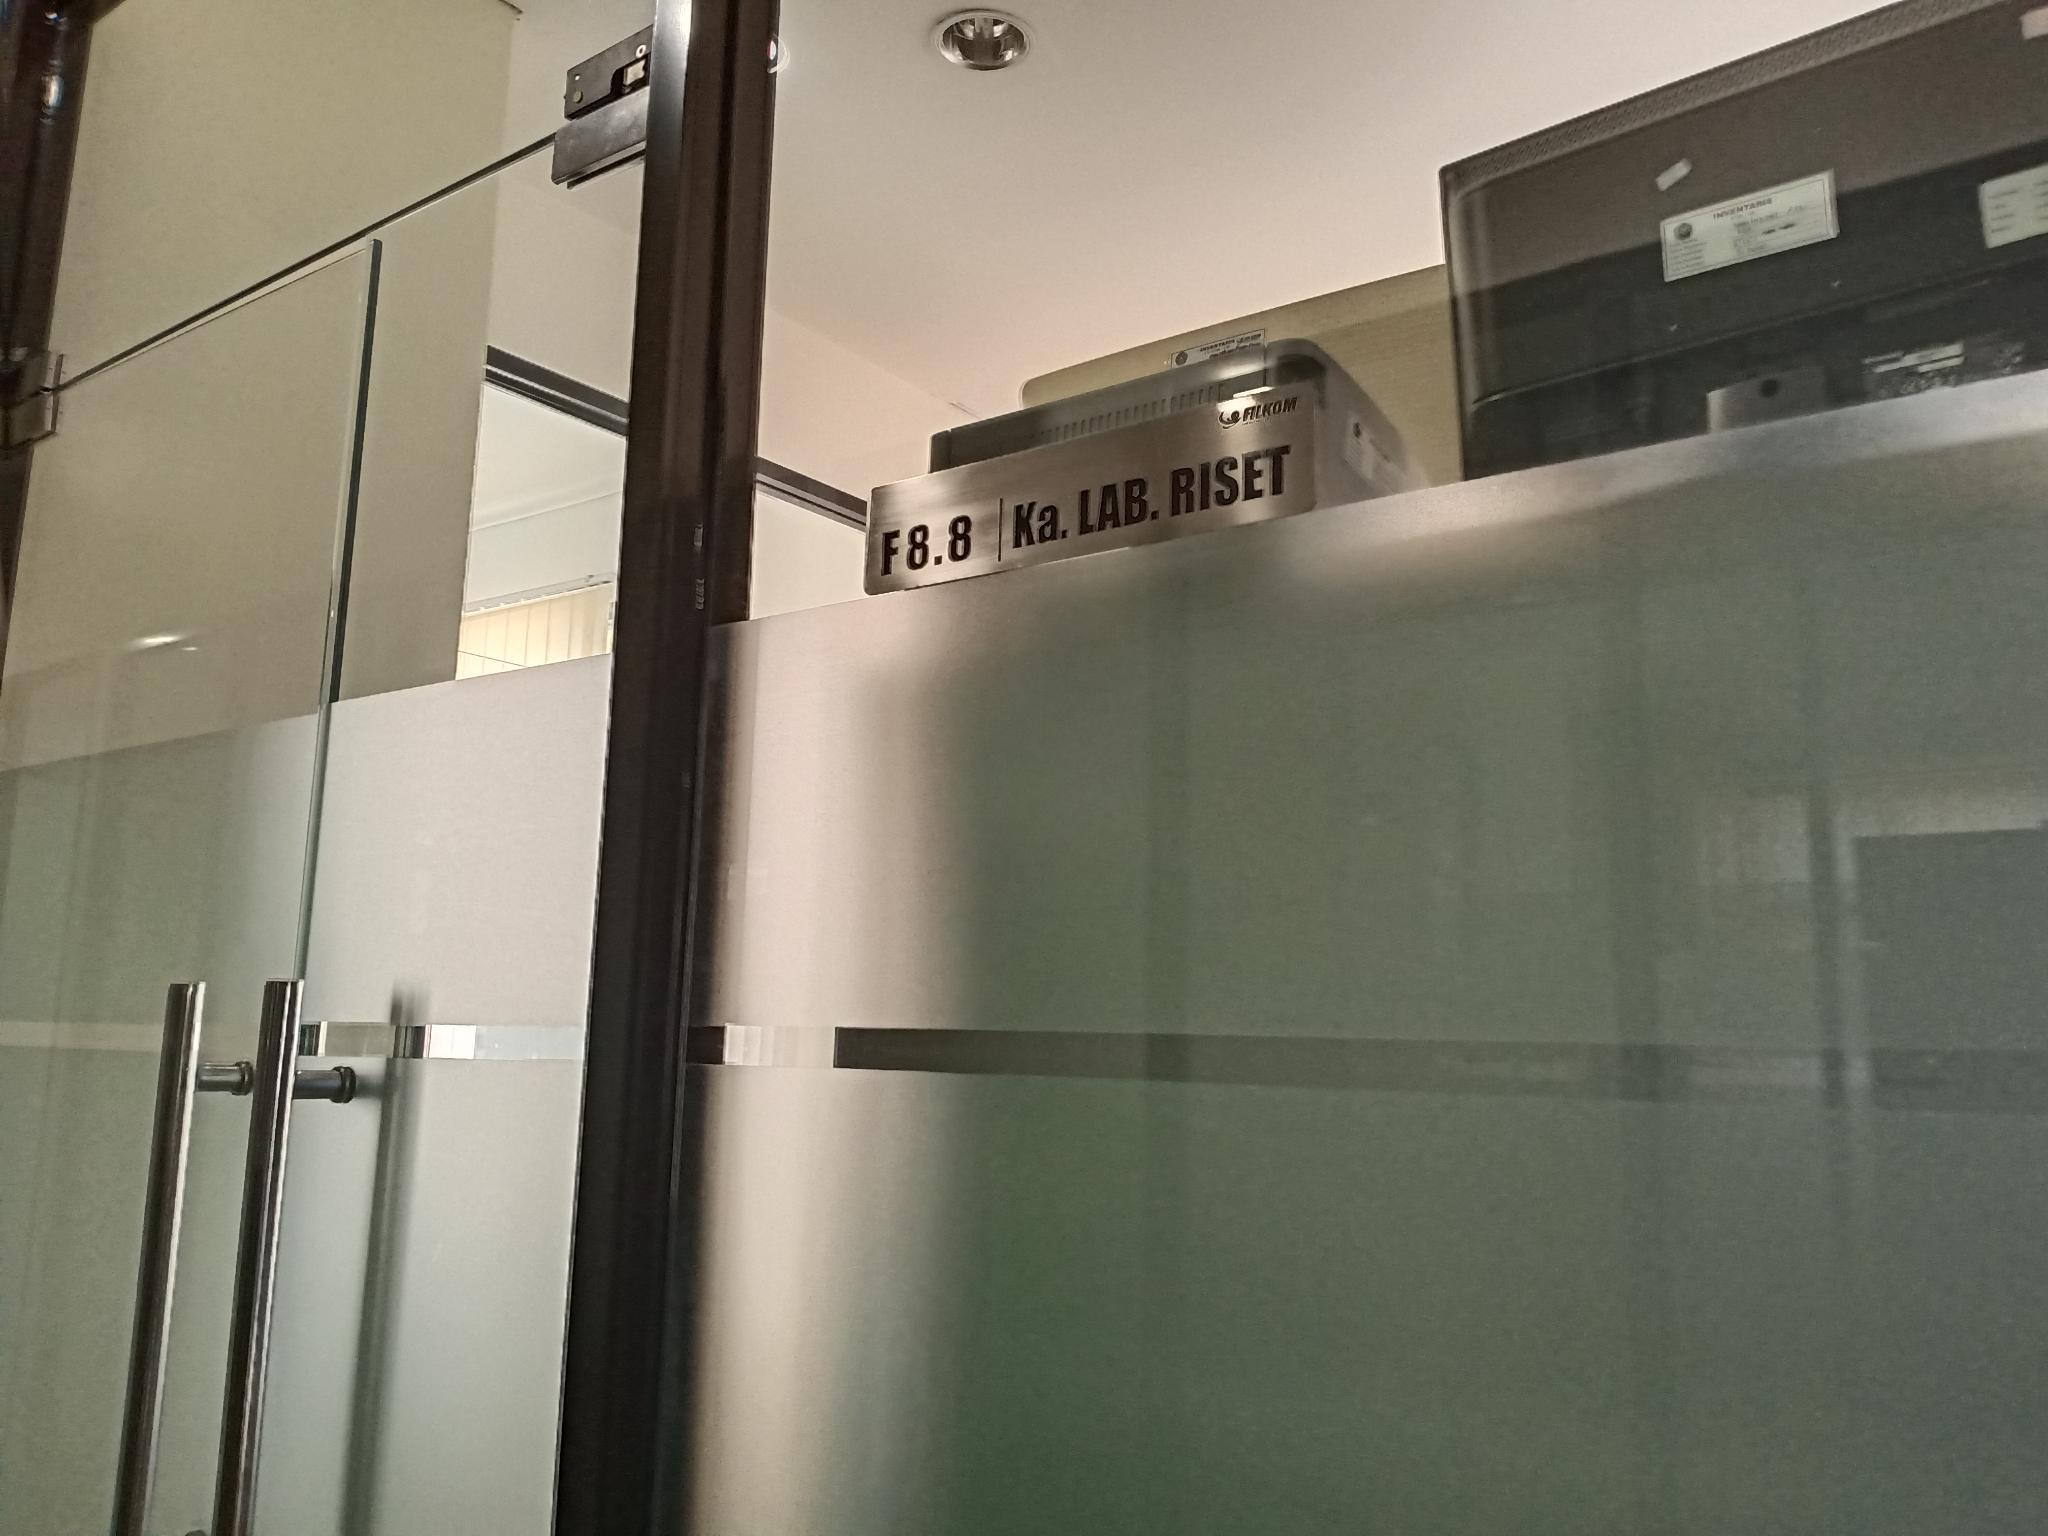plate: (863, 384, 1321, 595)
